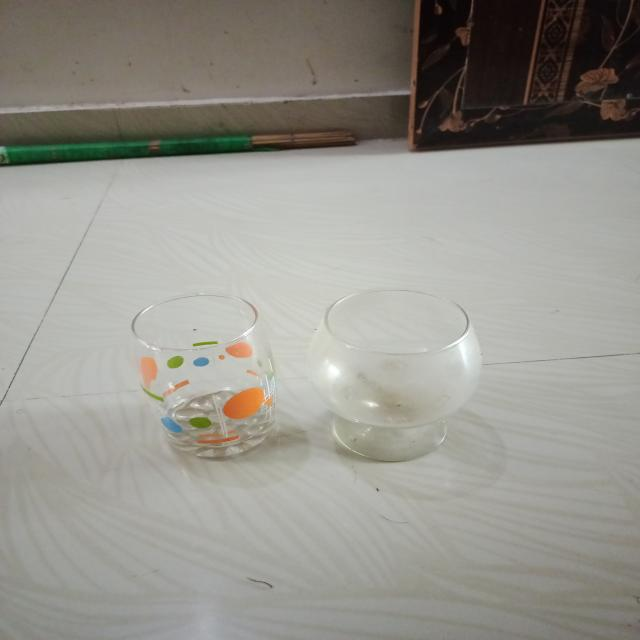Glass: (298, 283, 485, 466), (126, 291, 282, 463)
